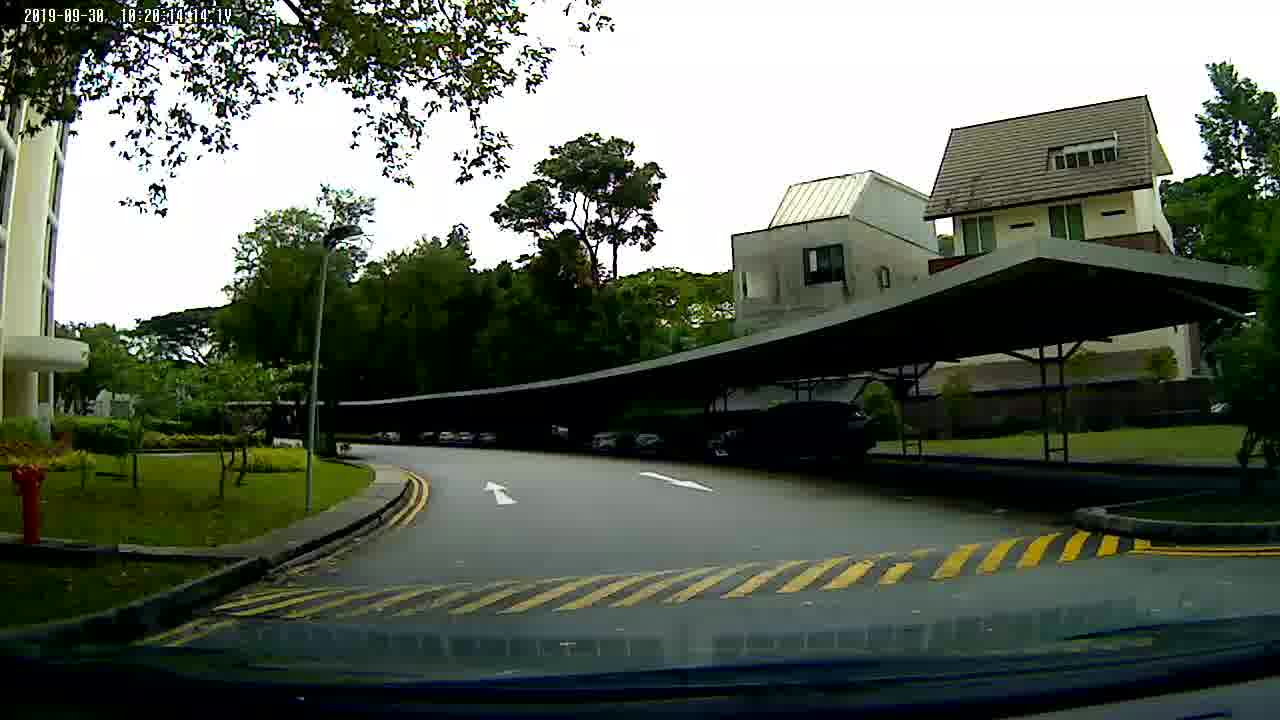car: (705, 398, 878, 470)
